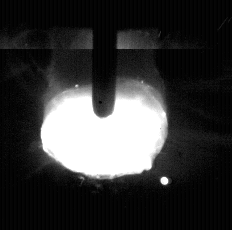arame: (93, 0, 117, 118)
poca: (39, 0, 169, 230)
